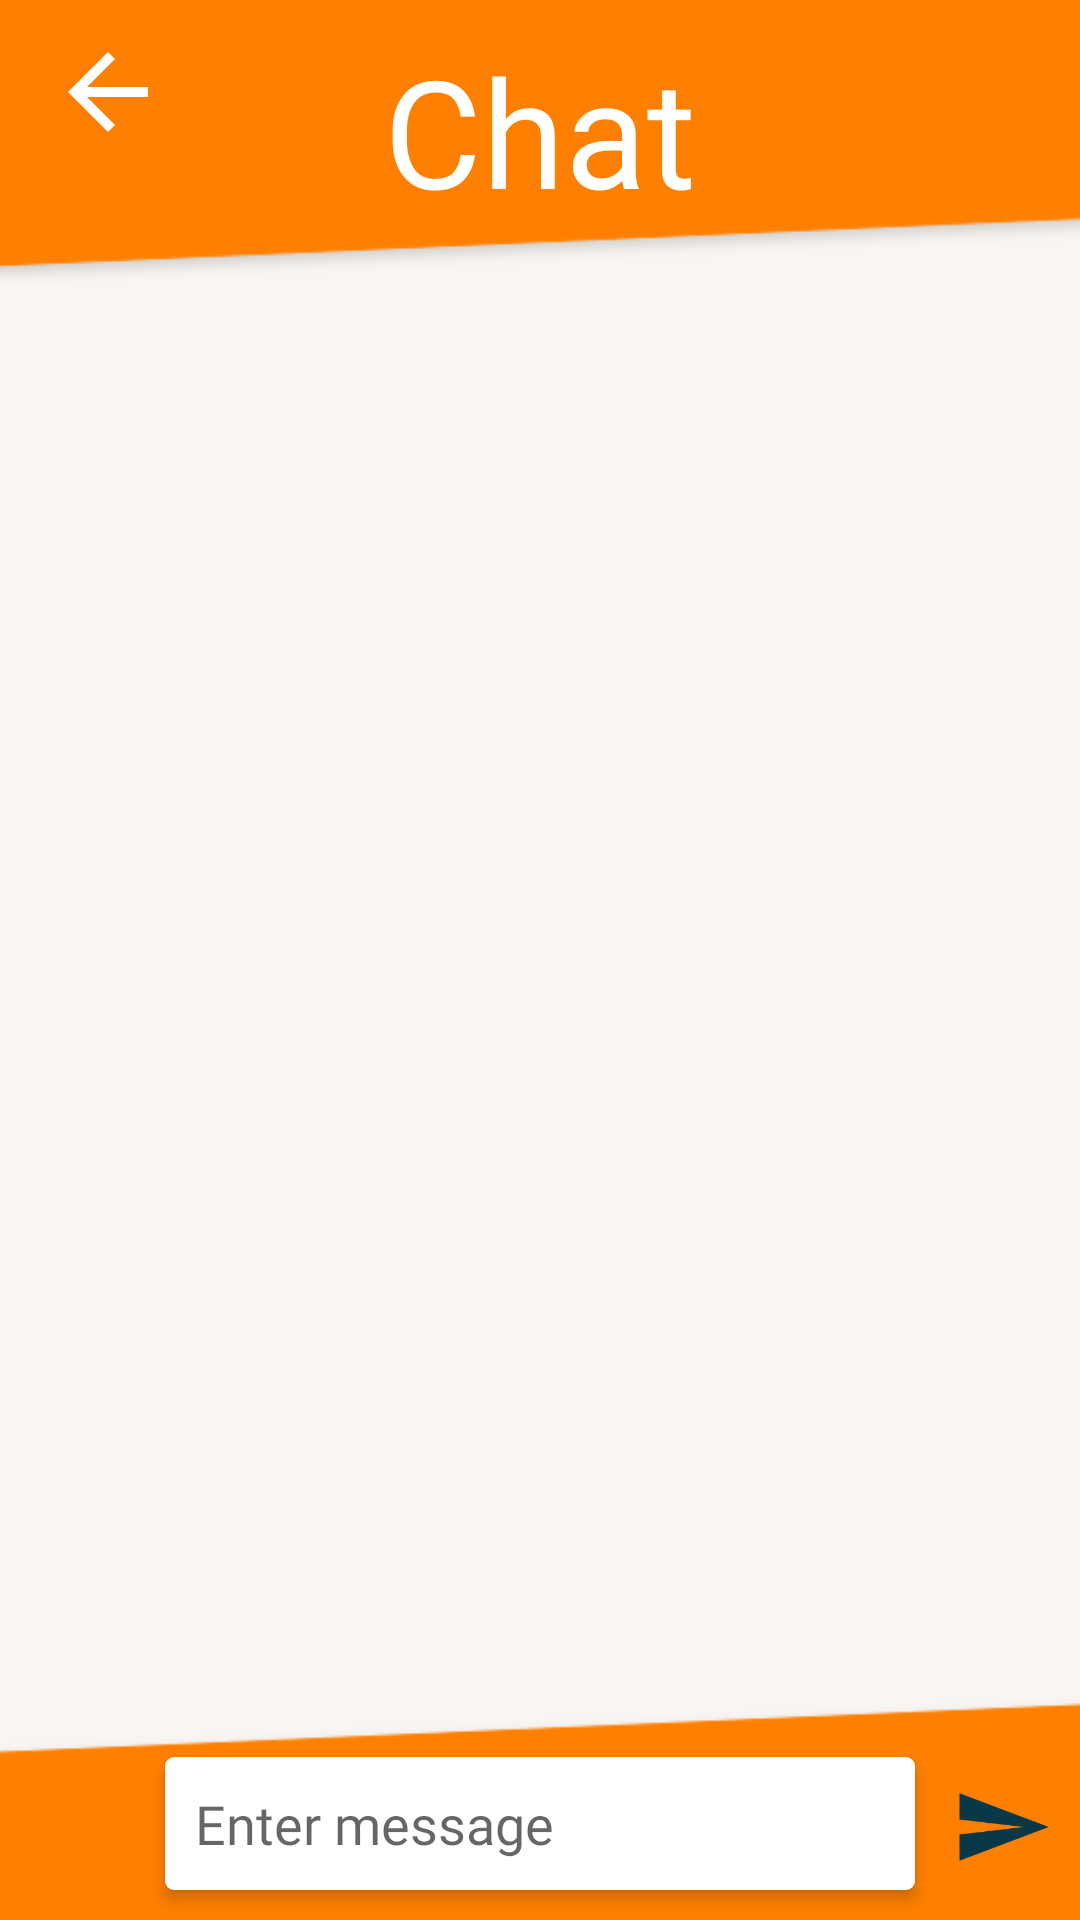

Icon bounding boxes for this 1080w x 1920h phone screenshot, format BBox(x1, y1, x2, y2):
send: BBox(959, 1793, 1048, 1861)
